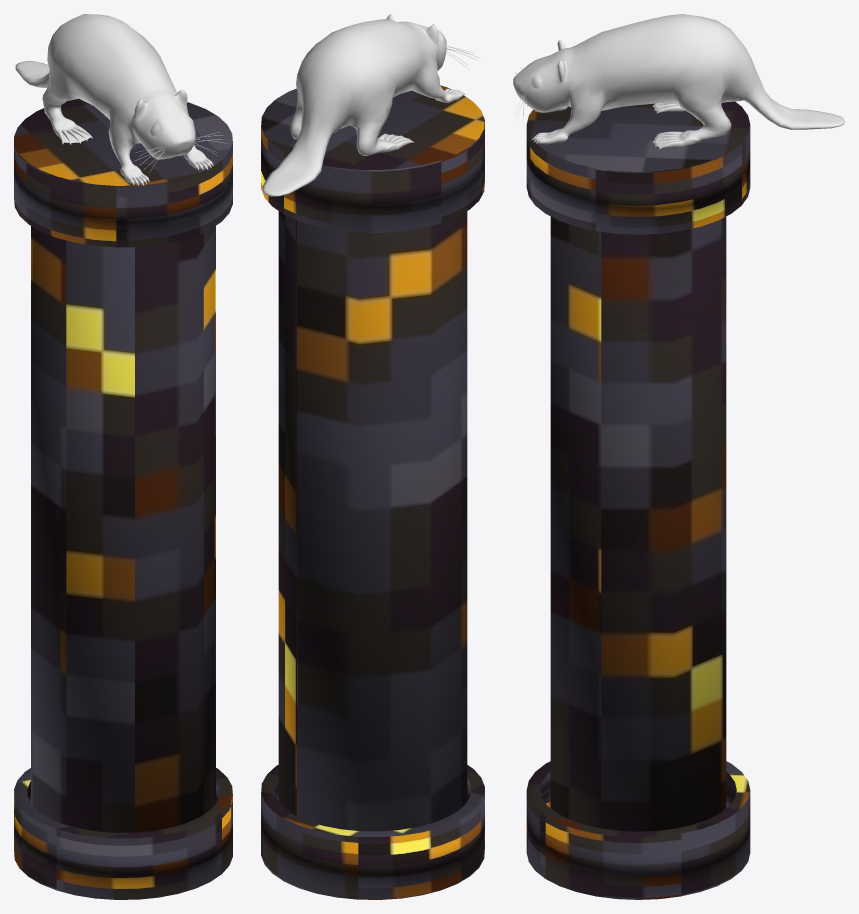
The model's file is fence_divider_paul (1).fbx.
3 renders of one model, left to right at view 1: azimuth 30°, elevation 25°; view 2: azimuth 150°, elevation 25°; view 3: azimuth 270°, elevation 25°, orthographic. The views are drawn at different scales.
Parts seen in each view (by area): view 1: Pole, Top Piece, Beaver, Bot Piece; view 2: Pole, Top Piece, Beaver, Bot Piece; view 3: Pole, Top Piece, Beaver, Bot Piece.
Part boxes in pixels (bbox=[...]): Pole: bbox=[31, 226, 215, 832]; Top Piece: bbox=[14, 98, 232, 247]; Beaver: bbox=[15, 14, 228, 185]; Bot Piece: bbox=[14, 768, 232, 899]; Pole: bbox=[278, 211, 467, 831]; Top Piece: bbox=[261, 85, 484, 232]; Beaver: bbox=[262, 14, 479, 196]; Bot Piece: bbox=[261, 765, 484, 899]; Pole: bbox=[550, 216, 726, 831]; Top Piece: bbox=[526, 101, 750, 234]; Beaver: bbox=[513, 14, 844, 149]; Bot Piece: bbox=[526, 761, 750, 899].
Size of the model in its own units: 95.82 by 394 by 142.
2 materials, 1 textured.
